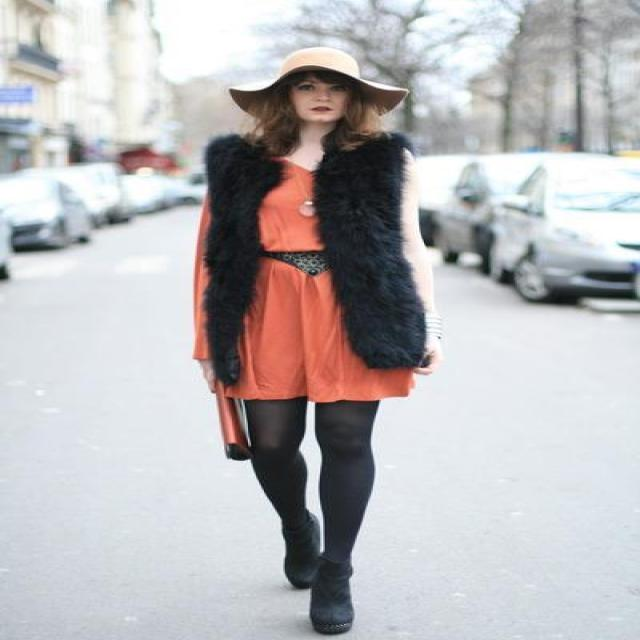bag: (211, 371, 269, 463)
dress: (235, 167, 426, 402)
hat: (262, 39, 358, 92)
jacket: (203, 132, 432, 370)
shoe: (283, 532, 352, 635)
